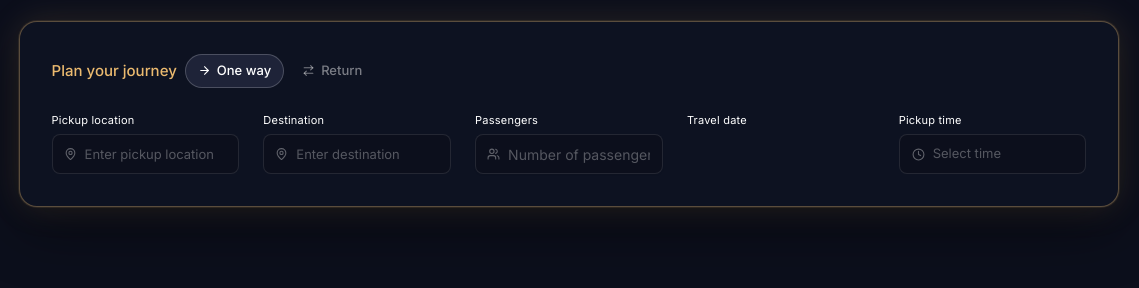
Test: QuoteForm › shows return date and time fields when Return is selected
Step 1. Click the button "Return" → (332, 71), box [290,54,374,88]
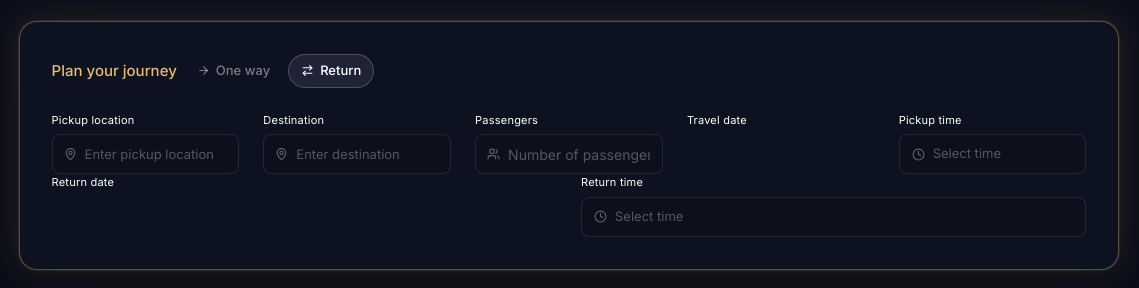
Result: the text "Return date" is shown at [52,175,114,189]
Result: the text "Return time" is shown at [581,175,643,189]
